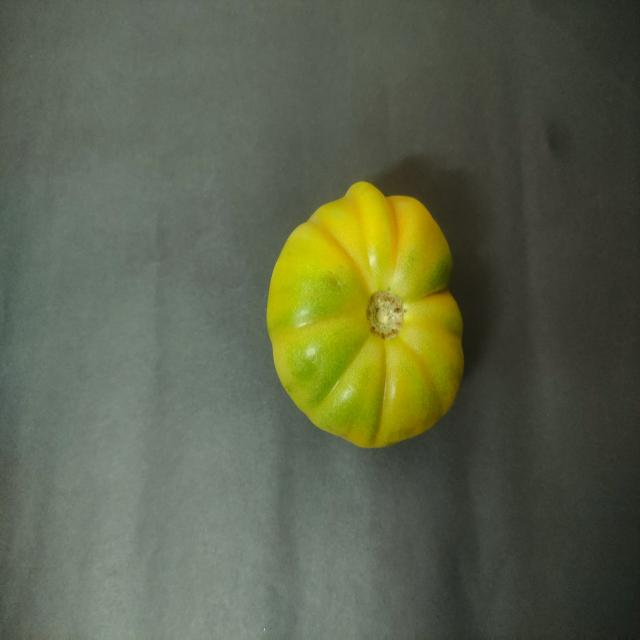yesil: (245, 170, 477, 460)
